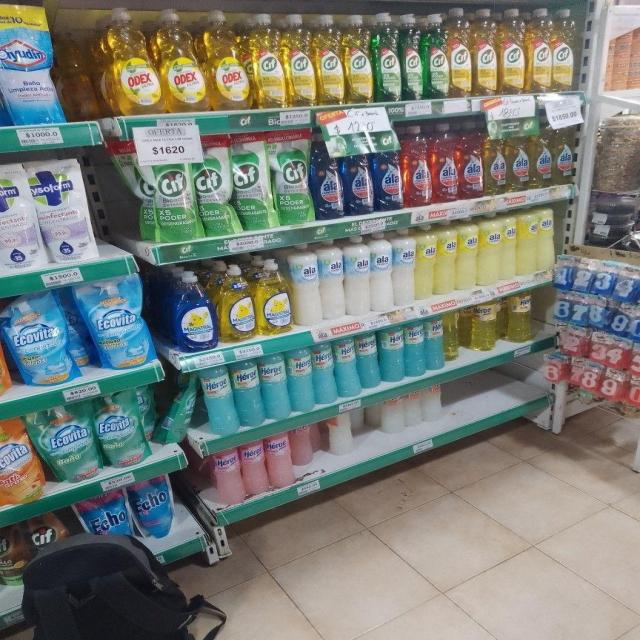ala_conc_amarillo: (484, 124, 506, 196), (508, 126, 530, 192), (531, 122, 552, 189), (553, 123, 575, 186)
ala_conc_azul: (313, 134, 343, 220), (373, 130, 402, 212), (343, 134, 372, 216)
ala_conc_rojo: (402, 125, 430, 207), (432, 122, 458, 203), (458, 120, 483, 199)
ala_crem_amarillo: (478, 214, 501, 286), (415, 223, 435, 300), (457, 216, 477, 290), (436, 220, 456, 294), (517, 208, 537, 276), (538, 206, 555, 272), (502, 212, 516, 281)
ala_crem_blanco: (292, 243, 320, 324), (345, 236, 370, 316), (321, 239, 344, 320), (371, 231, 392, 312), (393, 228, 414, 306)
cif_conc_bot_amarilla: (251, 12, 284, 109), (285, 14, 314, 107), (315, 14, 343, 106), (344, 13, 372, 104), (499, 8, 525, 94), (526, 8, 552, 94), (473, 8, 497, 96), (449, 9, 471, 98), (553, 8, 576, 92)
cif_conc_botella_verde: (373, 12, 400, 102), (423, 12, 447, 100), (401, 12, 422, 101)
cif_conc_sachet_verde: (196, 134, 233, 236), (155, 150, 195, 243), (234, 132, 271, 230), (273, 130, 311, 224)
heroe: (200, 364, 233, 434), (234, 358, 261, 427), (211, 448, 242, 505), (262, 352, 288, 419), (288, 344, 313, 413), (470, 300, 500, 351), (267, 433, 294, 488), (313, 339, 335, 405), (380, 324, 404, 383), (506, 292, 534, 342), (242, 440, 267, 496), (336, 334, 357, 398), (357, 331, 379, 390), (405, 320, 425, 378), (425, 316, 445, 372)
magistral_con_amarillo: (219, 263, 255, 343), (256, 258, 291, 336)
magistral_con_azul: (171, 270, 216, 352)
odex: (208, 11, 250, 111)
